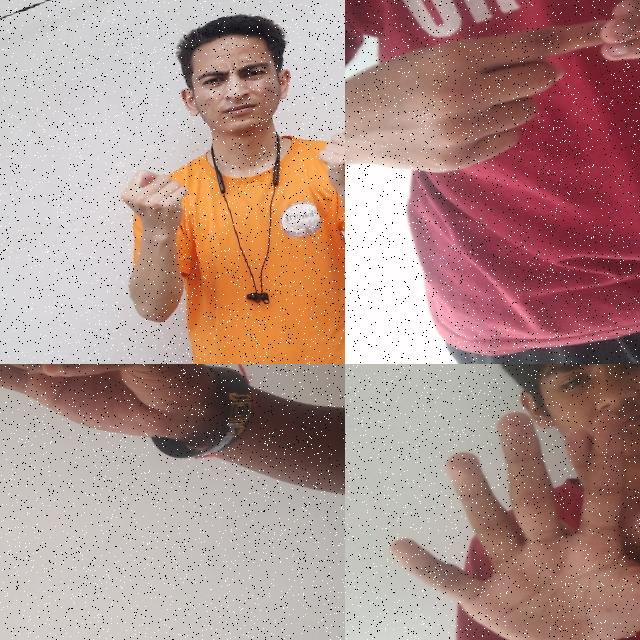Corna: (0, 364, 258, 519)
Dulya: (106, 150, 202, 258), (304, 109, 345, 211)
Five Fathers: (345, 0, 640, 202)
Moutza: (360, 364, 640, 640), (519, 364, 640, 640)
